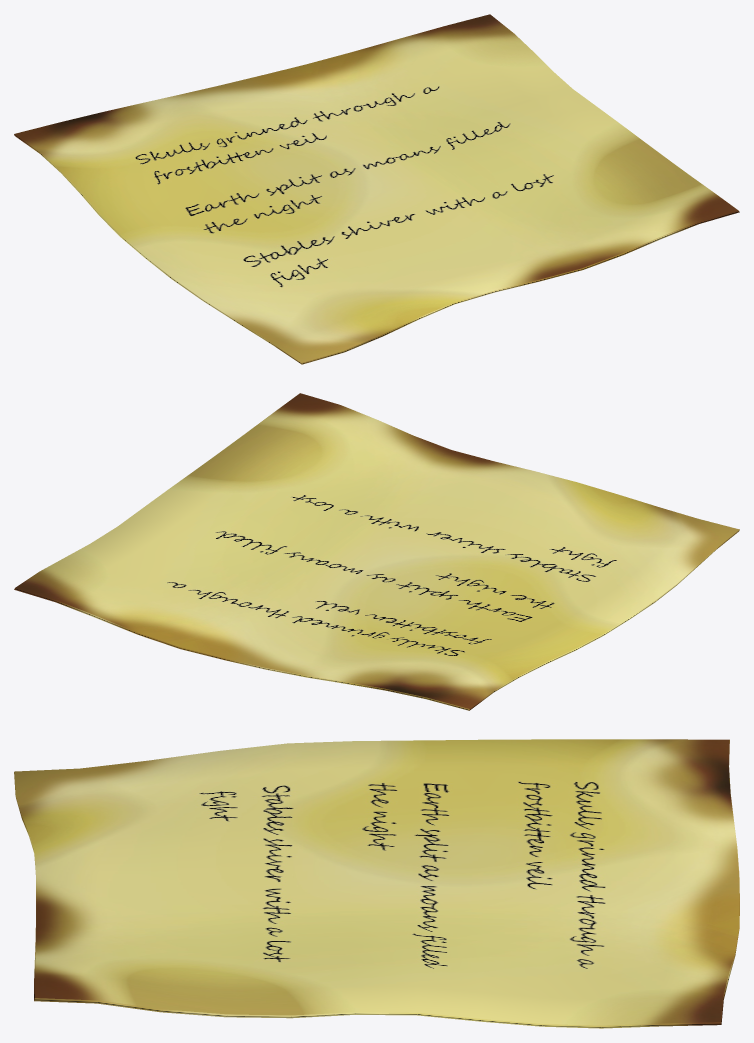
The model's file is Paper4.glb.
3 renders of one model, top to bottom at view 1: azimuth 30°, elevation 25°; view 2: azimuth 150°, elevation 25°; view 3: azimuth 270°, elevation 25°, orthographic. The views are drawn at different scales.
Parts seen in each view (by area): view 1: Plane; view 2: Plane; view 3: Plane.
Boxes of the visible parts, box(x1,y1,x2,y2) form: Plane: box(14, 14, 739, 364); Plane: box(14, 393, 739, 710); Plane: box(14, 739, 739, 1028).
Size of the model in its own units: 0.8607 by 0.0672 by 0.8722.
Materials: 1 (1 with a texture image).
